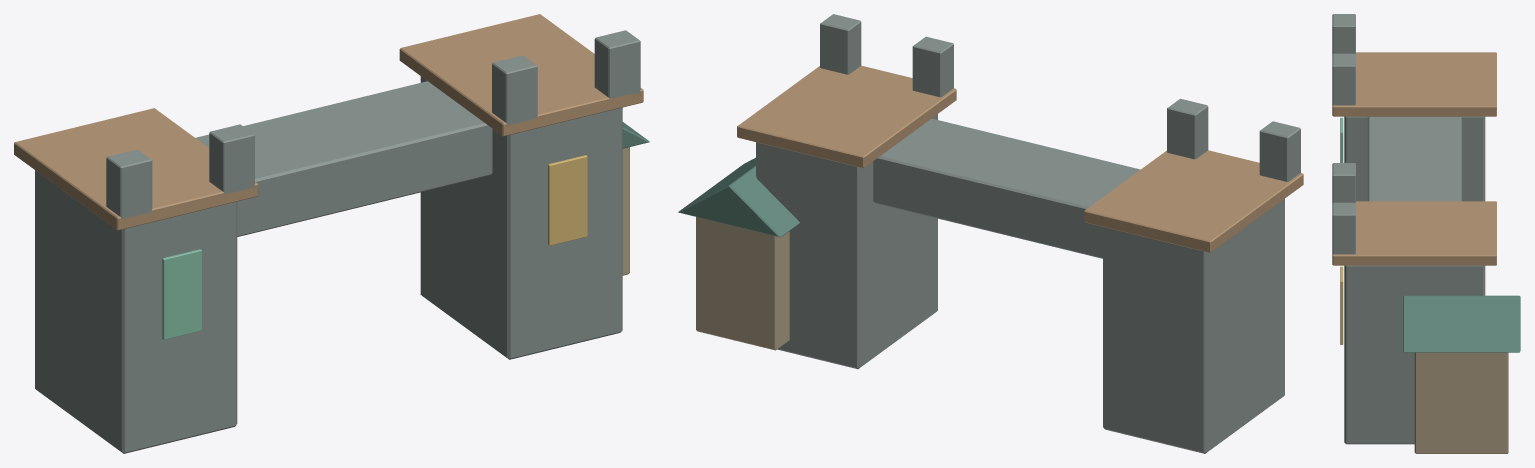
File: LumenFrontierGatehouse.glb
3 renders of one model, left to right at view 1: azimuth 30°, elevation 25°; view 2: azimuth 150°, elevation 25°; view 3: azimuth 270°, elevation 25°, orthographic. The views are drawn at different scales.
Visible parts, largest first — view 1: LumenFrontierGatehouse; view 2: LumenFrontierGatehouse; view 3: LumenFrontierGatehouse.
Boxes of the visible parts, x1,y1,x2,y2 form: LumenFrontierGatehouse: (14, 14, 649, 453); LumenFrontierGatehouse: (678, 14, 1303, 453); LumenFrontierGatehouse: (1332, 14, 1520, 453).
Size of the model in its own units: 44.94 by 22 by 16.
